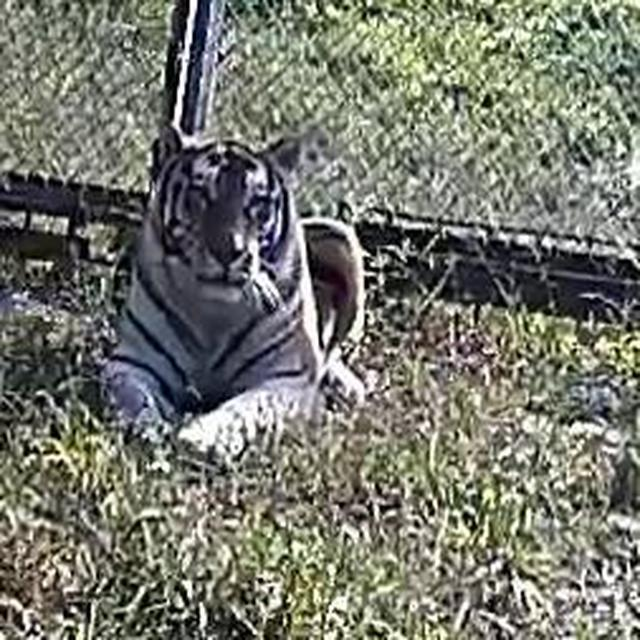tiger: (96, 0, 369, 469)
